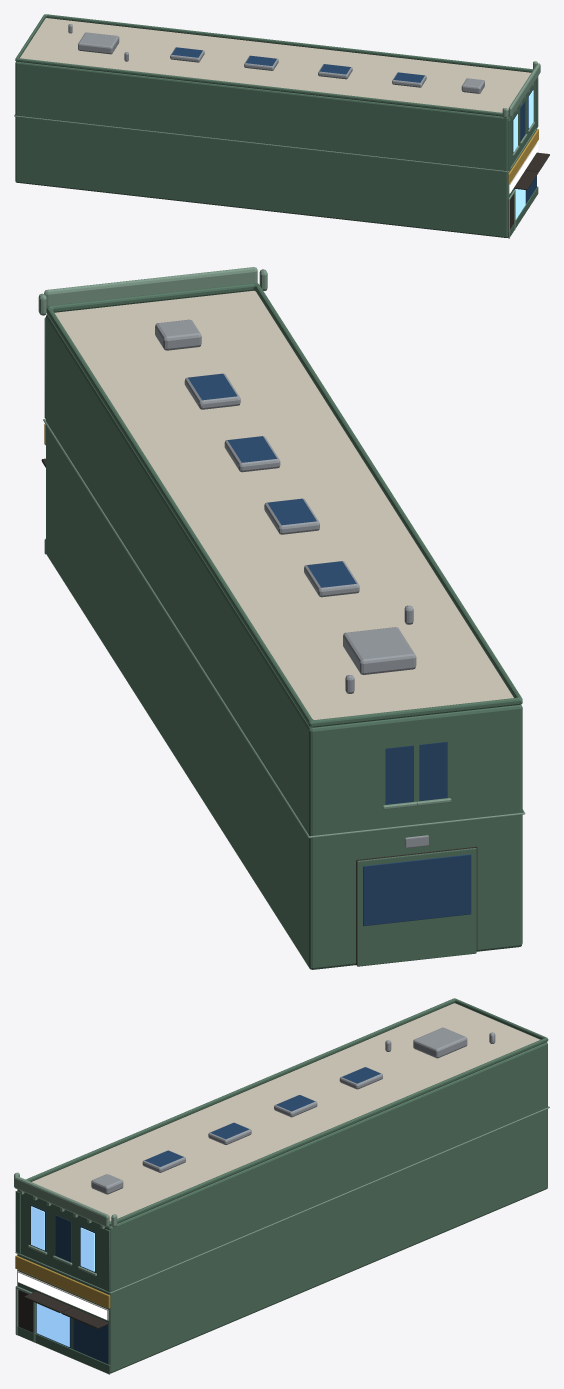
Rendered from 108-south-park.glb.
3 views of the same model, one above another, from view 1: azimuth 30°, elevation 25°; view 2: azimuth 150°, elevation 25°; view 3: azimuth 270°, elevation 25° (orthographic). The views are drawn at different scales.
Parts seen in each view (by area): view 1: body, grp_Toy_verdigris, grp_Toy_mint, grp_Toy_glass_Toy_steel, grp_Toy_steel, grp_Toy_ink, grp_Toy_glass_Glow, grp_Toy_glass, sign; view 2: body, grp_Toy_verdigris, grp_Toy_glass, grp_Toy_mint, grp_Toy_glass_Toy_steel, grp_Toy_steel; view 3: body, grp_Toy_verdigris, grp_Toy_mint, grp_Toy_glass_Toy_steel, grp_Toy_glass, grp_Toy_glass_Glow, grp_Toy_steel, grp_Toy_ink, sign, transom_glow.
Part boxes in pixels (<box>): body: <box>15,18,536,237</box>; grp_Toy_verdigris: <box>15,14,538,238</box>; grp_Toy_mint: <box>14,61,540,238</box>; grp_Toy_glass_Toy_steel: <box>170,47,426,87</box>; grp_Toy_steel: <box>68,24,484,93</box>; grp_Toy_ink: <box>508,152,549,237</box>; grp_Toy_glass_Glow: <box>513,90,533,219</box>; grp_Toy_glass: <box>512,89,536,203</box>; sign: <box>508,129,538,184</box>; body: <box>46,291,522,969</box>; grp_Toy_verdigris: <box>44,283,522,966</box>; grp_Toy_glass: <box>363,742,471,926</box>; grp_Toy_mint: <box>38,267,525,838</box>; grp_Toy_glass_Toy_steel: <box>184,373,359,597</box>; grp_Toy_steel: <box>155,319,428,848</box>; body: <box>17,1003,547,1373</box>; grp_Toy_verdigris: <box>15,998,548,1374</box>; grp_Toy_mint: <box>14,1106,549,1342</box>; grp_Toy_glass_Toy_steel: <box>142,1067,382,1172</box>; grp_Toy_glass: <box>30,1204,108,1363</box>; grp_Toy_glass_Glow: <box>31,1206,94,1346</box>; grp_Toy_steel: <box>91,1027,495,1194</box>; grp_Toy_ink: <box>18,1289,108,1332</box>; sign: <box>15,1255,110,1308</box>; transom_glow: <box>18,1272,107,1319</box>.
Size of the model in its own units: 26.16 by 8.45 by 25.72.
